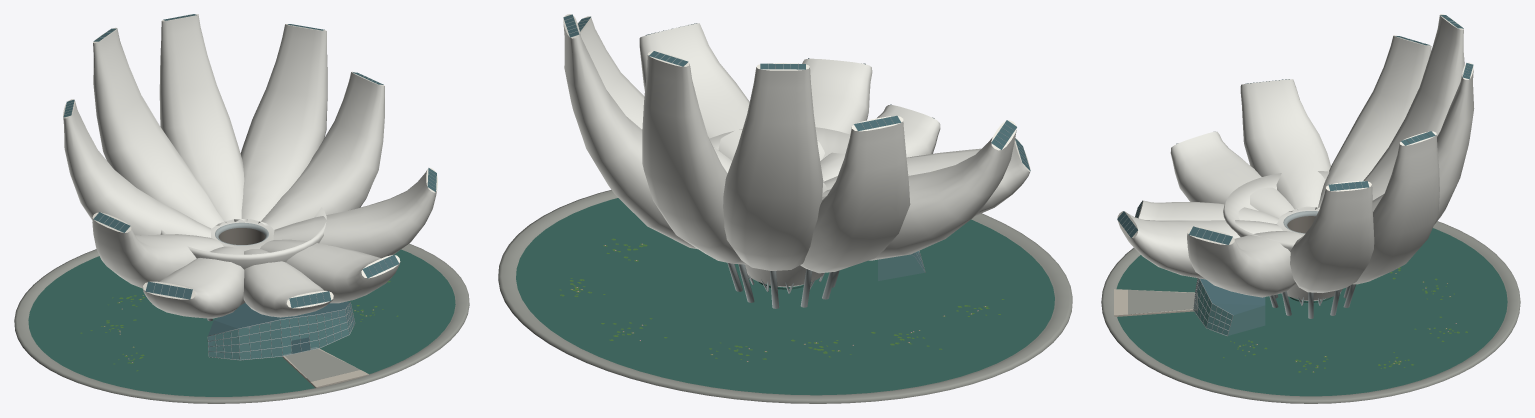
File: sg-artscience-museum.glb
The picture shows the model from 3 angles, left to right: view 1: azimuth 30°, elevation 25°; view 2: azimuth 150°, elevation 25°; view 3: azimuth 270°, elevation 25°; orthographic projection. The views are drawn at different scales.
Parts seen in each view (by area): view 1: Reflecting pond | water lily court, Finger 02 | FRP gallery shell and skylight, Finger 03 | FRP gallery shell and skylight, Finger 04 | FRP gallery shell and skylight, Finger 01 | FRP gallery shell and skylight, South entrance | faceted glazed pavilion, Finger 05 | FRP gallery shell and skylight, Finger 10 | FRP gallery shell and skylight, Finger 06 | FRP gallery shell and skylight, Finger 07 | FRP gallery shell and skylight, Finger 09 | FRP gallery shell and skylight, Finger 08 | FRP gallery shell and skylight (+1 smaller); view 2: Reflecting pond | water lily court, Finger 04 | FRP gallery shell and skylight, Finger 03 | FRP gallery shell and skylight, Finger 05 | FRP gallery shell and skylight, Finger 02 | FRP gallery shell and skylight, Finger 06 | FRP gallery shell and skylight, Finger 10 | FRP gallery shell and skylight, Finger 09 | FRP gallery shell and skylight, Finger 01 | FRP gallery shell and skylight, Finger 07 | FRP gallery shell and skylight, Finger 08 | FRP gallery shell and skylight, Central atrium | oculus and rainwater dish (+3 smaller); view 3: Reflecting pond | water lily court, Finger 06 | FRP gallery shell and skylight, Finger 02 | FRP gallery shell and skylight, Finger 01 | FRP gallery shell and skylight, Finger 05 | FRP gallery shell and skylight, Finger 10 | FRP gallery shell and skylight, Finger 04 | FRP gallery shell and skylight, Finger 07 | FRP gallery shell and skylight, South entrance | faceted glazed pavilion, Finger 09 | FRP gallery shell and skylight, Finger 03 | FRP gallery shell and skylight, Central atrium | oculus and rainwater dish (+3 smaller).
Boxes of the visible parts, <box> form: Reflecting pond | water lily court: <box>14,243,469,403</box>; Finger 02 | FRP gallery shell and skylight: <box>234,24,327,225</box>; Finger 03 | FRP gallery shell and skylight: <box>159,14,247,225</box>; Finger 04 | FRP gallery shell and skylight: <box>93,27,226,229</box>; Finger 01 | FRP gallery shell and skylight: <box>258,71,384,230</box>; South entrance | faceted glazed pavilion: <box>207,301,369,388</box>; Finger 05 | FRP gallery shell and skylight: <box>63,99,211,237</box>; Finger 10 | FRP gallery shell and skylight: <box>273,167,437,258</box>; Finger 06 | FRP gallery shell and skylight: <box>92,212,223,288</box>; Finger 07 | FRP gallery shell and skylight: <box>143,246,244,318</box>; Finger 09 | FRP gallery shell and skylight: <box>260,239,400,303</box>; Finger 08 | FRP gallery shell and skylight: <box>243,249,333,317</box>; Reflecting pond | water lily court: <box>498,190,1072,403</box>; Finger 04 | FRP gallery shell and skylight: <box>723,63,823,270</box>; Finger 03 | FRP gallery shell and skylight: <box>642,51,746,264</box>; Finger 05 | FRP gallery shell and skylight: <box>800,115,910,273</box>; Finger 02 | FRP gallery shell and skylight: <box>563,14,697,249</box>; Finger 06 | FRP gallery shell and skylight: <box>822,120,1016,260</box>; Finger 10 | FRP gallery shell and skylight: <box>639,23,749,160</box>; Finger 09 | FRP gallery shell and skylight: <box>802,58,872,160</box>; Finger 01 | FRP gallery shell and skylight: <box>577,16,731,172</box>; Finger 07 | FRP gallery shell and skylight: <box>823,138,1030,215</box>; Finger 08 | FRP gallery shell and skylight: <box>820,104,940,181</box>; Central atrium | oculus and rainwater dish: <box>709,127,850,289</box>; Reflecting pond | water lily court: <box>1101,221,1520,403</box>; Finger 06 | FRP gallery shell and skylight: <box>1240,79,1330,211</box>; Finger 02 | FRP gallery shell and skylight: <box>1353,131,1439,284</box>; Finger 01 | FRP gallery shell and skylight: <box>1290,181,1374,292</box>; Finger 05 | FRP gallery shell and skylight: <box>1315,35,1431,209</box>; Finger 10 | FRP gallery shell and skylight: <box>1187,226,1302,297</box>; Finger 04 | FRP gallery shell and skylight: <box>1363,14,1464,200</box>; Finger 07 | FRP gallery shell and skylight: <box>1170,131,1298,217</box>; South entrance | faceted glazed pavilion: <box>1114,278,1265,336</box>; Finger 09 | FRP gallery shell and skylight: <box>1117,211,1282,279</box>; Finger 03 | FRP gallery shell and skylight: <box>1372,62,1474,224</box>; Central atrium | oculus and rainwater dish: <box>1223,171,1342,302</box>.
Size of the model in its own units: 104 by 60.05 by 91.52.
